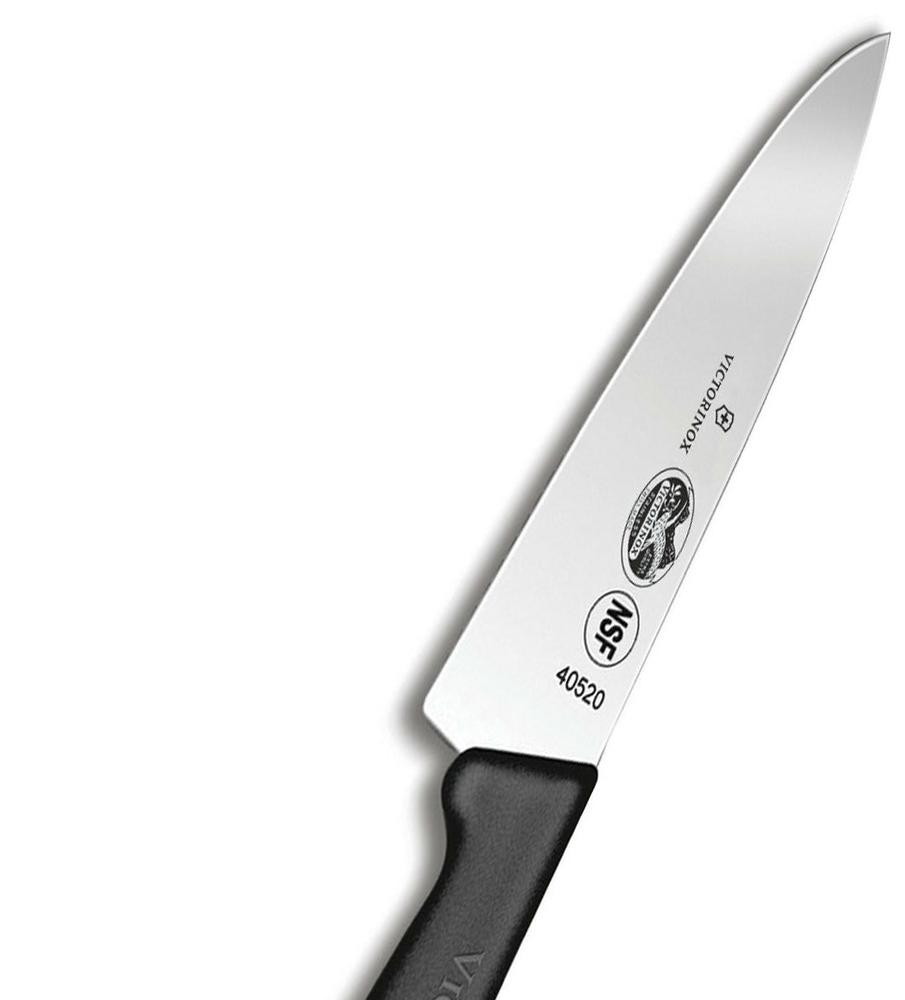knife: (368, 34, 892, 1000)
